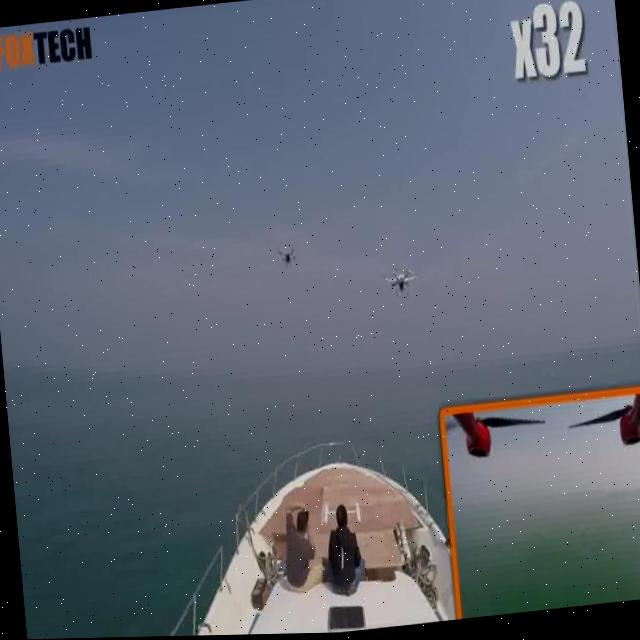drone: (378, 257, 427, 305), (270, 231, 301, 273)
